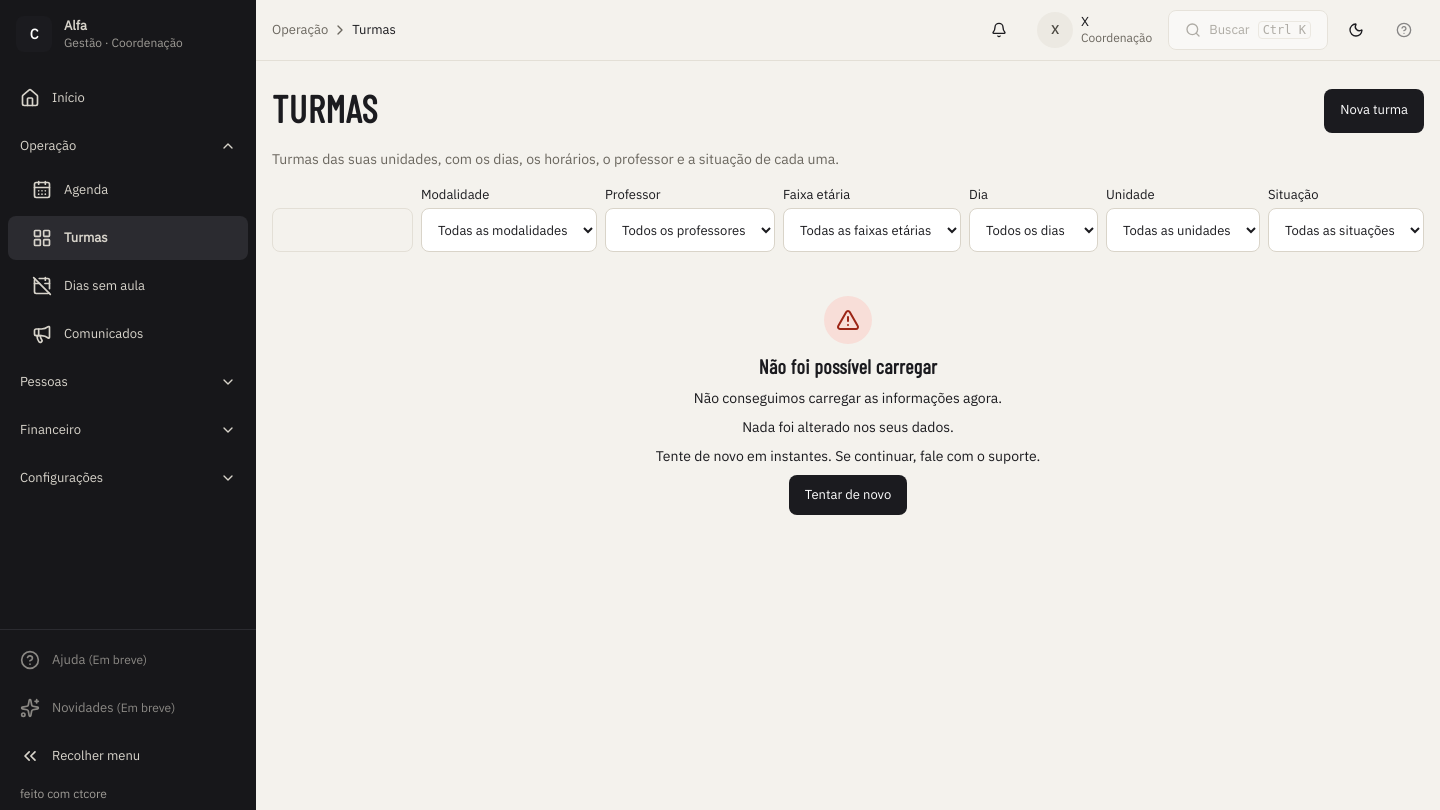
ClassesPage › CA9: erro com Tentar de novo refaz a consulta
Step 1. Click the button "Tentar de novo" → (848, 495), box [789,475,907,515]
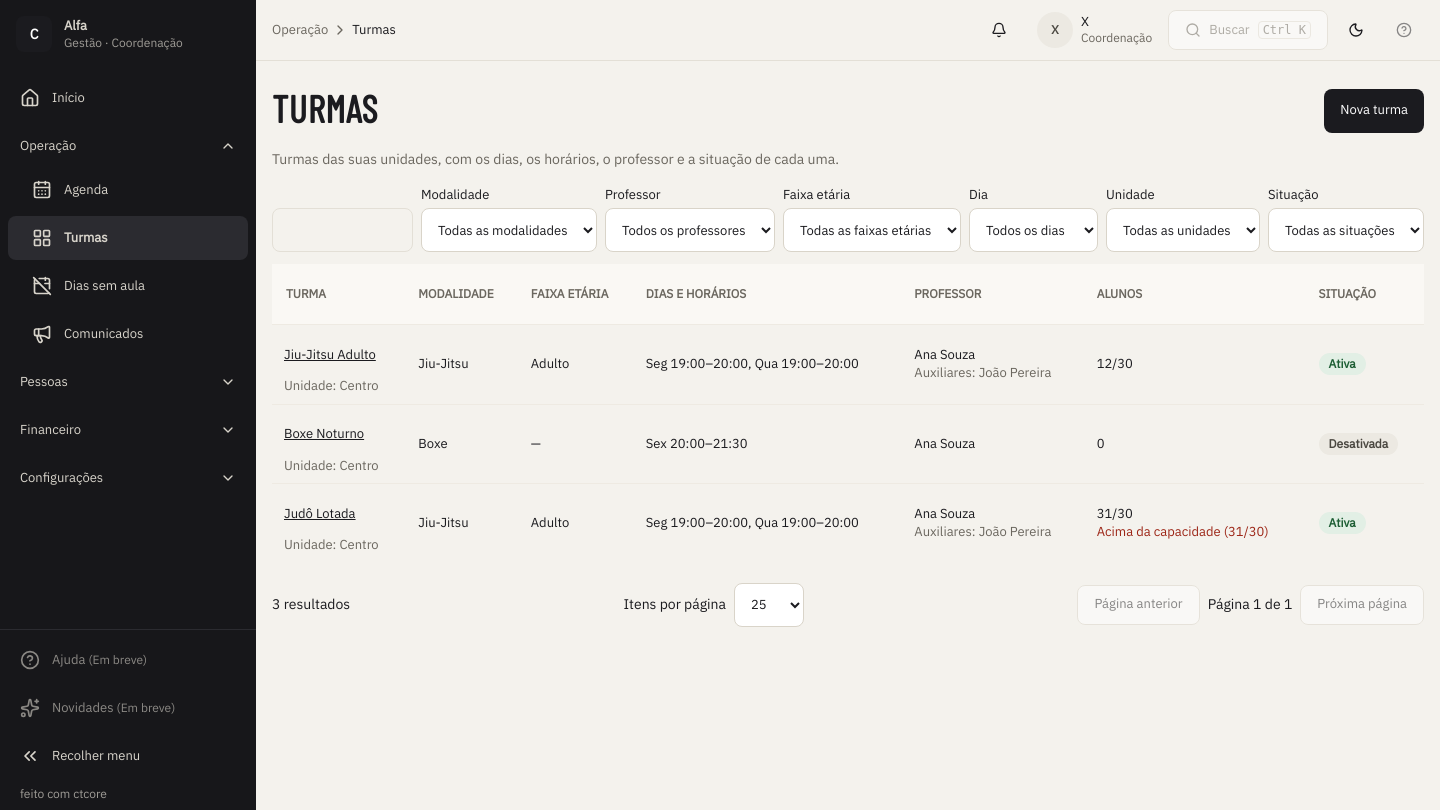
Expected: the link "Jiu-Jitsu Adulto" is shown, [284,346,376,363]
